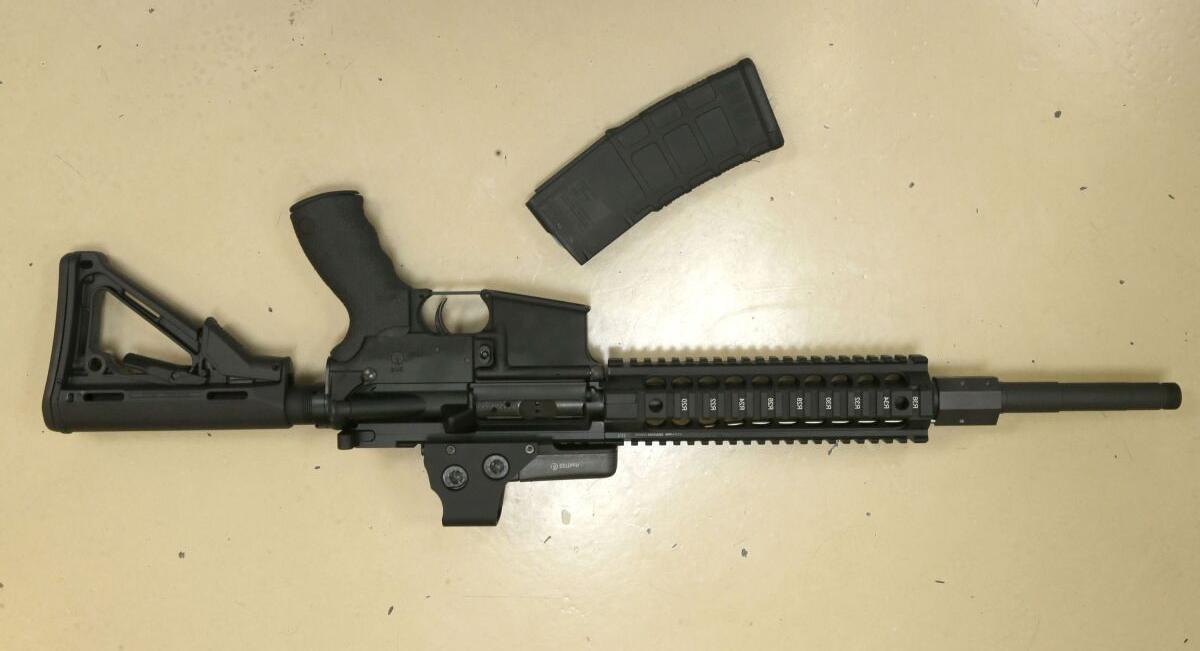larga: (41, 184, 1185, 528)
